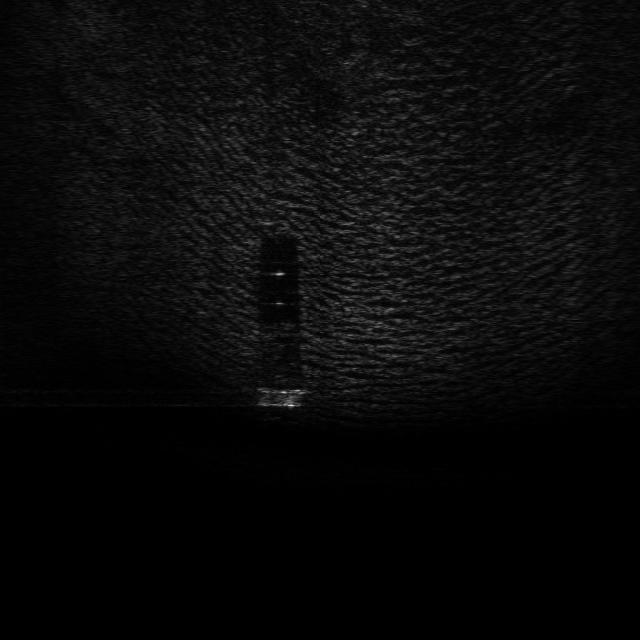cube: (254, 386, 307, 411)
